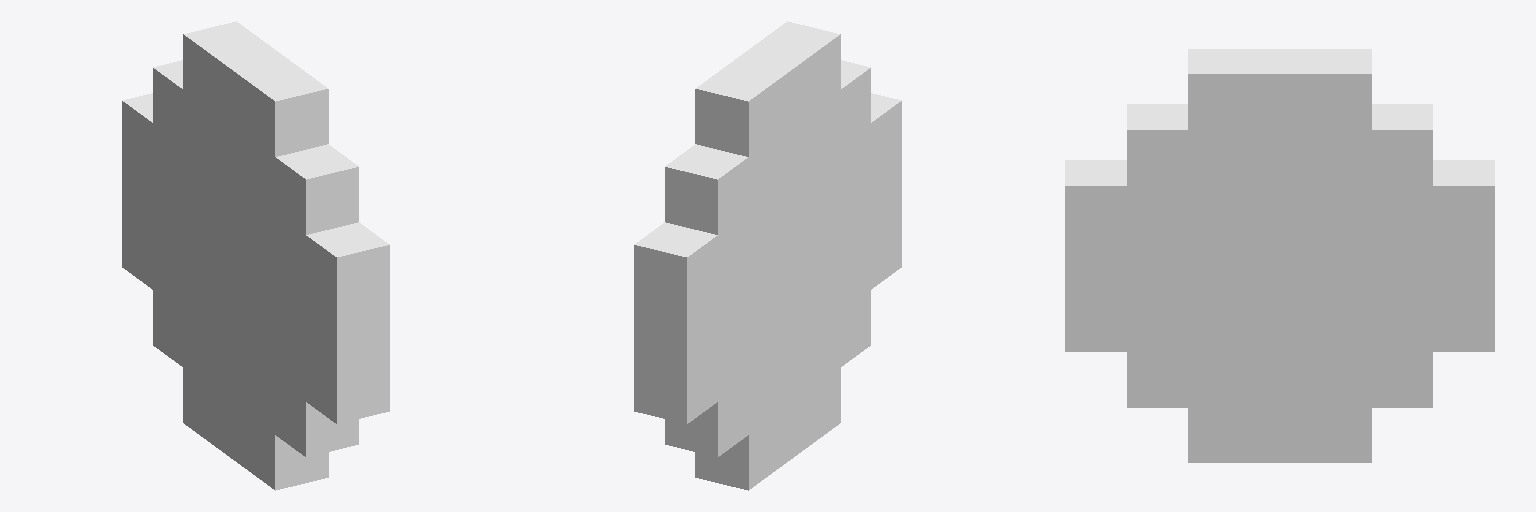
The model's file is Respawn2.obj.
3 renders of one model, left to right at view 1: azimuth 30°, elevation 25°; view 2: azimuth 150°, elevation 25°; view 3: azimuth 270°, elevation 25°, orthographic.
Parts seen in each view (by area): view 1: object 1; view 2: object 1; view 3: object 1.
Boxes of the visible parts, box(x1,y1,x2,y2) form: object 1: box(122, 21, 389, 490); object 1: box(634, 21, 901, 490); object 1: box(1065, 49, 1494, 462).
Bounding box in the file's own units: 0.1 × 0.7 × 0.7.